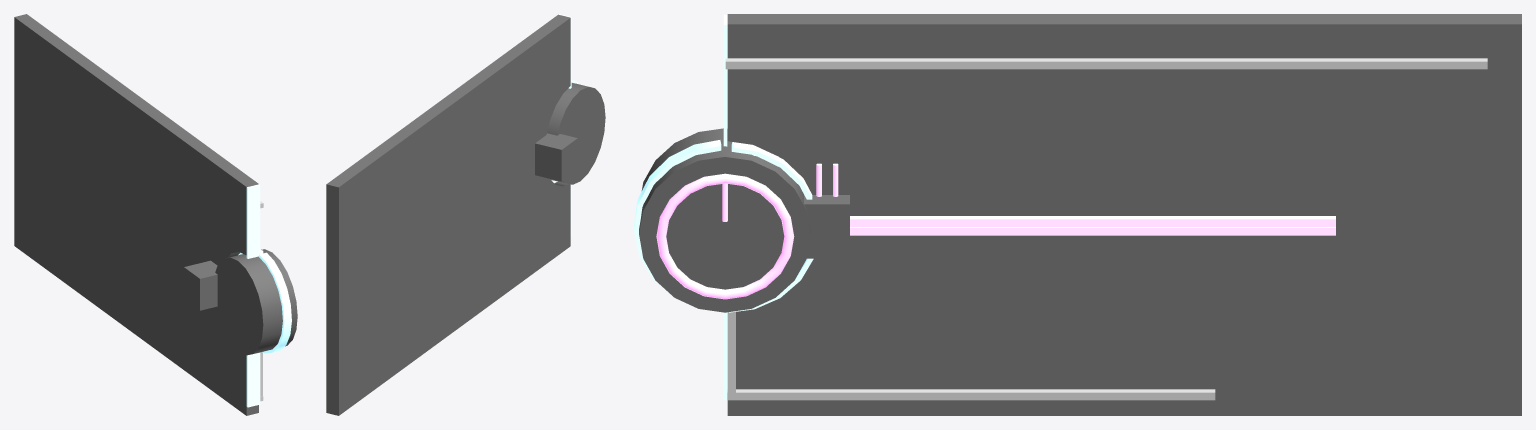
File: rightDoor.gltf
3 renders of one model, left to right at view 1: azimuth 30°, elevation 25°; view 2: azimuth 150°, elevation 25°; view 3: azimuth 270°, elevation 25°, orthographic. The views are drawn at different scales.
Visible parts, largest first — view 1: pasted__pCube63; view 2: pasted__pCube63; view 3: pasted__pCube63.
Part boxes in pixels (<box>): pasted__pCube63: <box>14,14,297,415</box>; pasted__pCube63: <box>326,14,605,415</box>; pasted__pCube63: <box>634,14,1521,415</box>.
Bounding box in the file's own units: 0.0328 × 0.1272 × 0.2615.
